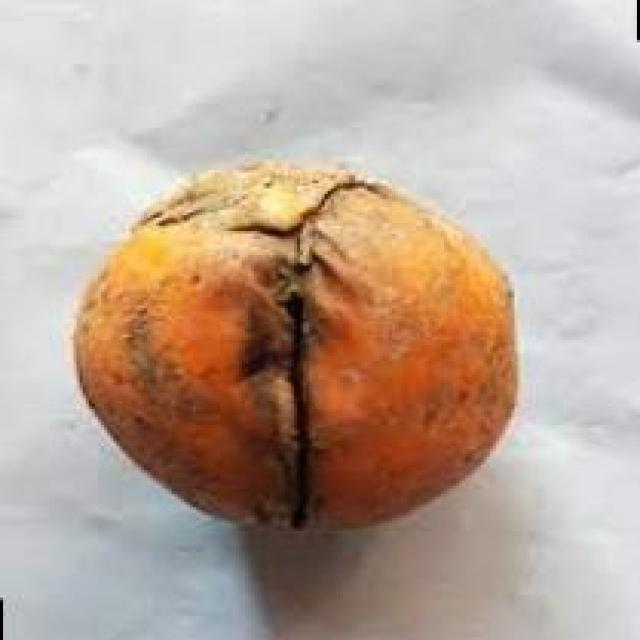damaged: (73, 157, 521, 536)
